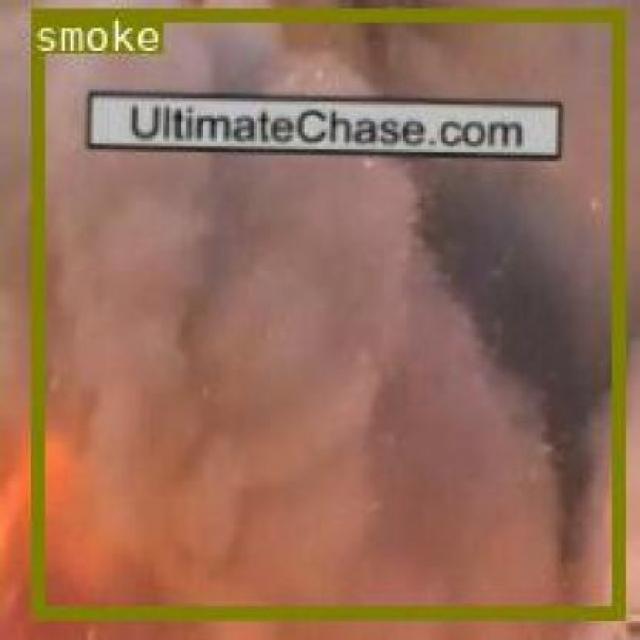Smoke: (27, 6, 624, 616)
